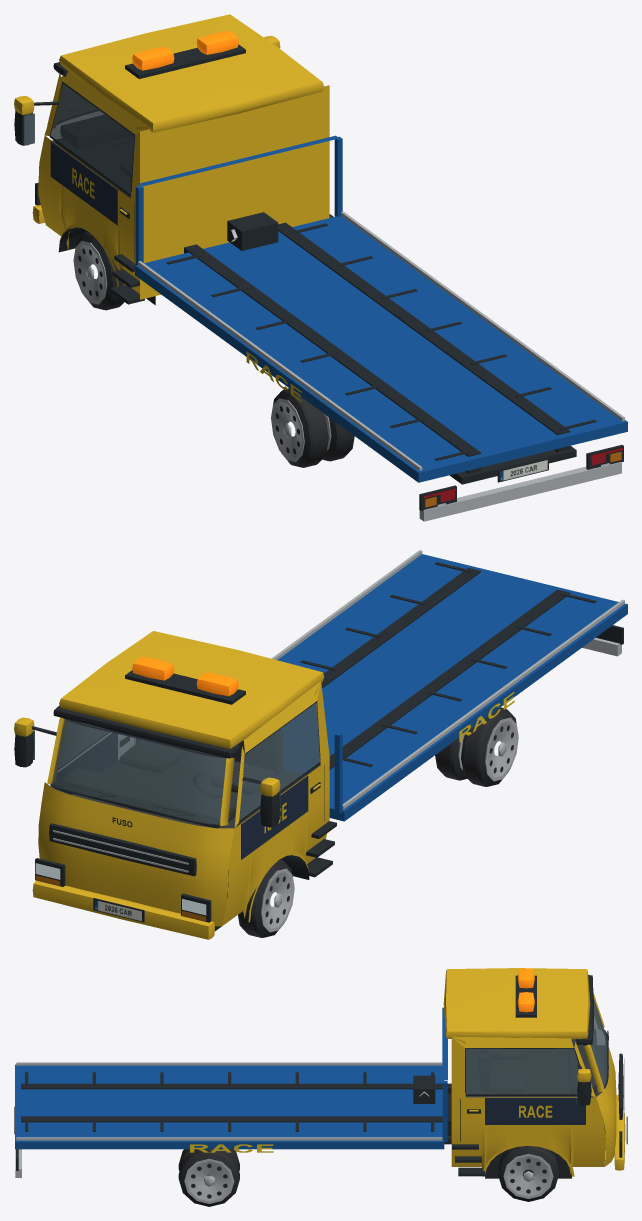
File: Entrega_8b_LOD1.glb
The picture shows the model from 3 angles, top to bottom: view 1: azimuth 30°, elevation 25°; view 2: azimuth 150°, elevation 25°; view 3: azimuth 270°, elevation 25°; orthographic projection. The views are drawn at different scales.
Parts seen in each view (by area): view 1: Body (×2), Glass, Wheel_RL, Interior, Wheel_FL; view 2: Body (×2), Glass, Interior, Wheel_RL, Wheel_FL, LiveryDecals, Headlights; view 3: Body (×2), Glass, Interior, Wheel_RR, Wheel_FR, LiveryDecals.
Boxes of the visible parts, x1=… form: Body (×2): x1=14, y1=14, x2=627, y2=521; Glass: x1=24, y1=83, x2=134, y2=193; Wheel_RL: x1=271, y1=388, x2=354, y2=467; Interior: x1=55, y1=115, x2=135, y2=197; Wheel_FL: x1=73, y1=231, x2=124, y2=310; Body (×2): x1=14, y1=550, x2=627, y2=939; Glass: x1=33, y1=702, x2=320, y2=824; Interior: x1=60, y1=729, x2=304, y2=828; Wheel_RL: x1=435, y1=707, x2=518, y2=786; Wheel_FL: x1=238, y1=859, x2=294, y2=937; LiveryDecals: x1=112, y1=692, x2=514, y2=833; Headlights: x1=35, y1=863, x2=206, y2=915; Body (×2): x1=14, y1=968, x2=627, y2=1178; Glass: x1=465, y1=999, x2=606, y2=1103; Interior: x1=465, y1=1029, x2=604, y2=1097; Wheel_RR: x1=178, y1=1149, x2=239, y2=1206; Wheel_FR: x1=498, y1=1146, x2=559, y2=1201; LiveryDecals: x1=190, y1=1105, x2=552, y2=1152.
Size of the model in its own units: 2.75 by 2.45 by 7.41.
17 materials, 2 textured.
